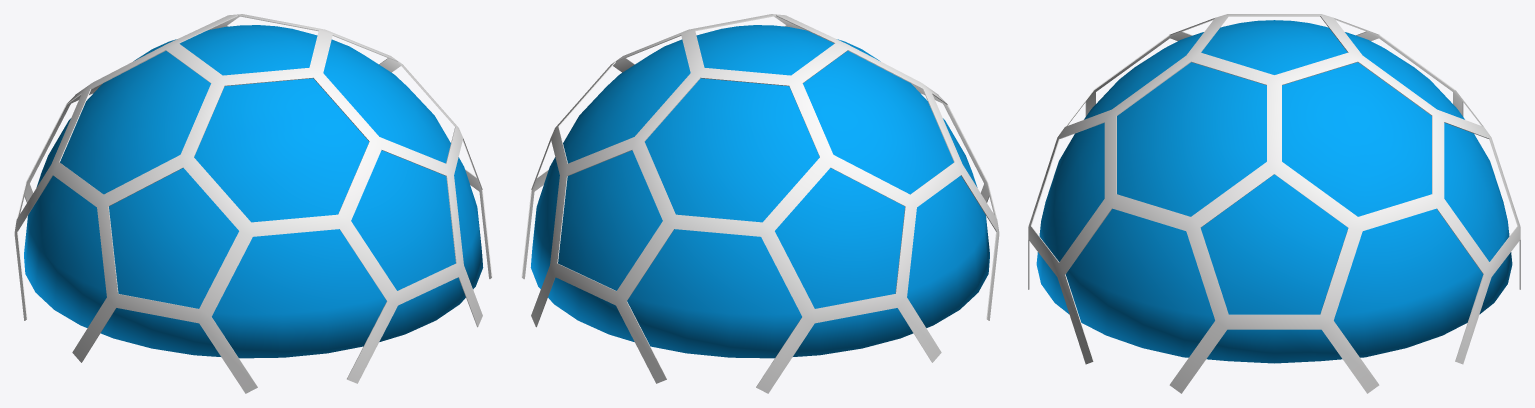
Rendered from domo.fbx.
3 views of the same model, side by side, from view 1: azimuth 30°, elevation 25°; view 2: azimuth 150°, elevation 25°; view 3: azimuth 270°, elevation 25° (orthographic). The views are drawn at different scales.
Visible parts, largest first — view 1: Sphere.013, Icosphere.015; view 2: Sphere.013, Icosphere.015; view 3: Sphere.013, Icosphere.015.
Boxes of the visible parts, x1,y1,x2,y2 form: Sphere.013: (24, 25, 483, 358); Icosphere.015: (14, 14, 492, 393); Sphere.013: (530, 25, 989, 358); Icosphere.015: (521, 14, 999, 393); Sphere.013: (1036, 20, 1512, 363); Icosphere.015: (1028, 14, 1520, 393).
Bounding box in the file's own units: 1414 × 819 × 1429.
2 materials, 2 textured.
